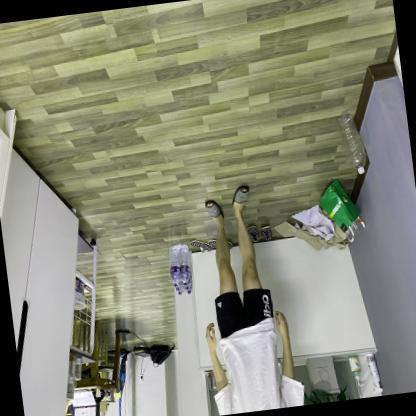no_safety-shoe: (225, 178, 254, 222), (199, 189, 227, 234)
